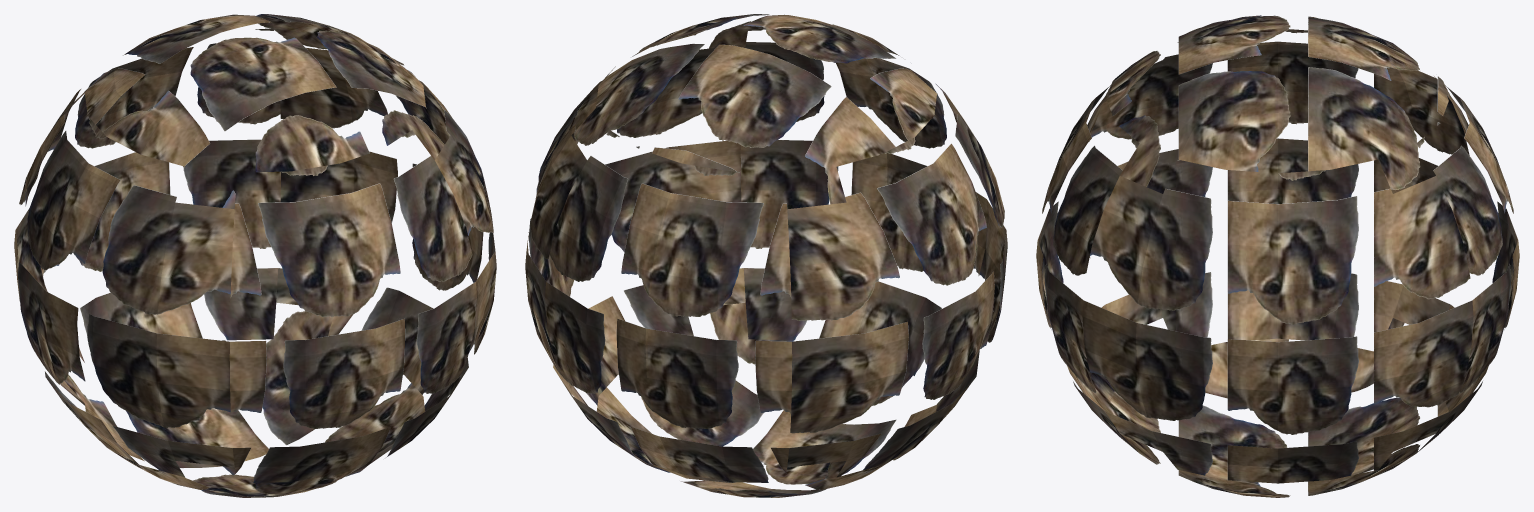
Rendered from FloppaSphere.obj.
The picture shows the model from 3 angles, left to right: view 1: azimuth 30°, elevation 25°; view 2: azimuth 150°, elevation 25°; view 3: azimuth 270°, elevation 25°; orthographic projection.
Bounding box in the file's own units: 28.06 × 28 × 27.97.
